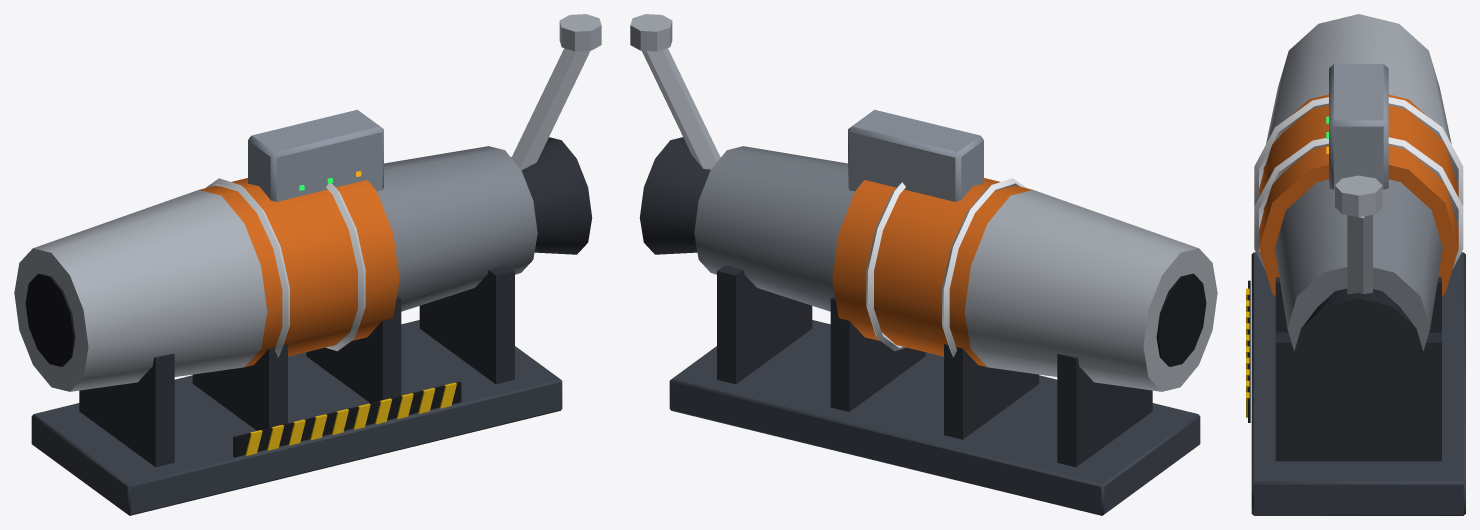
The model's file is generator_gas_turbine_genset.glb.
3 views of the same model, side by side, from view 1: azimuth 30°, elevation 25°; view 2: azimuth 150°, elevation 25°; view 3: azimuth 270°, elevation 25° (orthographic). The views are drawn at different scales.
Parts seen in each view (by area): view 1: generator_gas_turbine_genset; view 2: generator_gas_turbine_genset; view 3: generator_gas_turbine_genset.
Boxes of the visible parts, x1,y1,x2,y2 form: generator_gas_turbine_genset: (14, 14, 601, 515); generator_gas_turbine_genset: (630, 14, 1217, 515); generator_gas_turbine_genset: (1246, 14, 1465, 515).
Bounding box in the file's own units: 2.91 × 1.7 × 0.9238.
